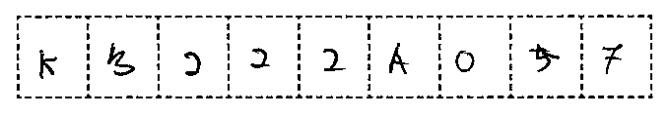0: (451, 45, 479, 78)
2: (239, 41, 277, 76), (315, 41, 349, 78), (179, 45, 209, 83)
5: (522, 43, 562, 78)
7: (594, 37, 630, 78)
A: (384, 40, 416, 77)
B: (100, 42, 140, 84)
K: (27, 43, 66, 86)
